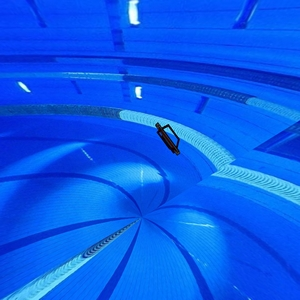submarine: (155, 119, 185, 161)
